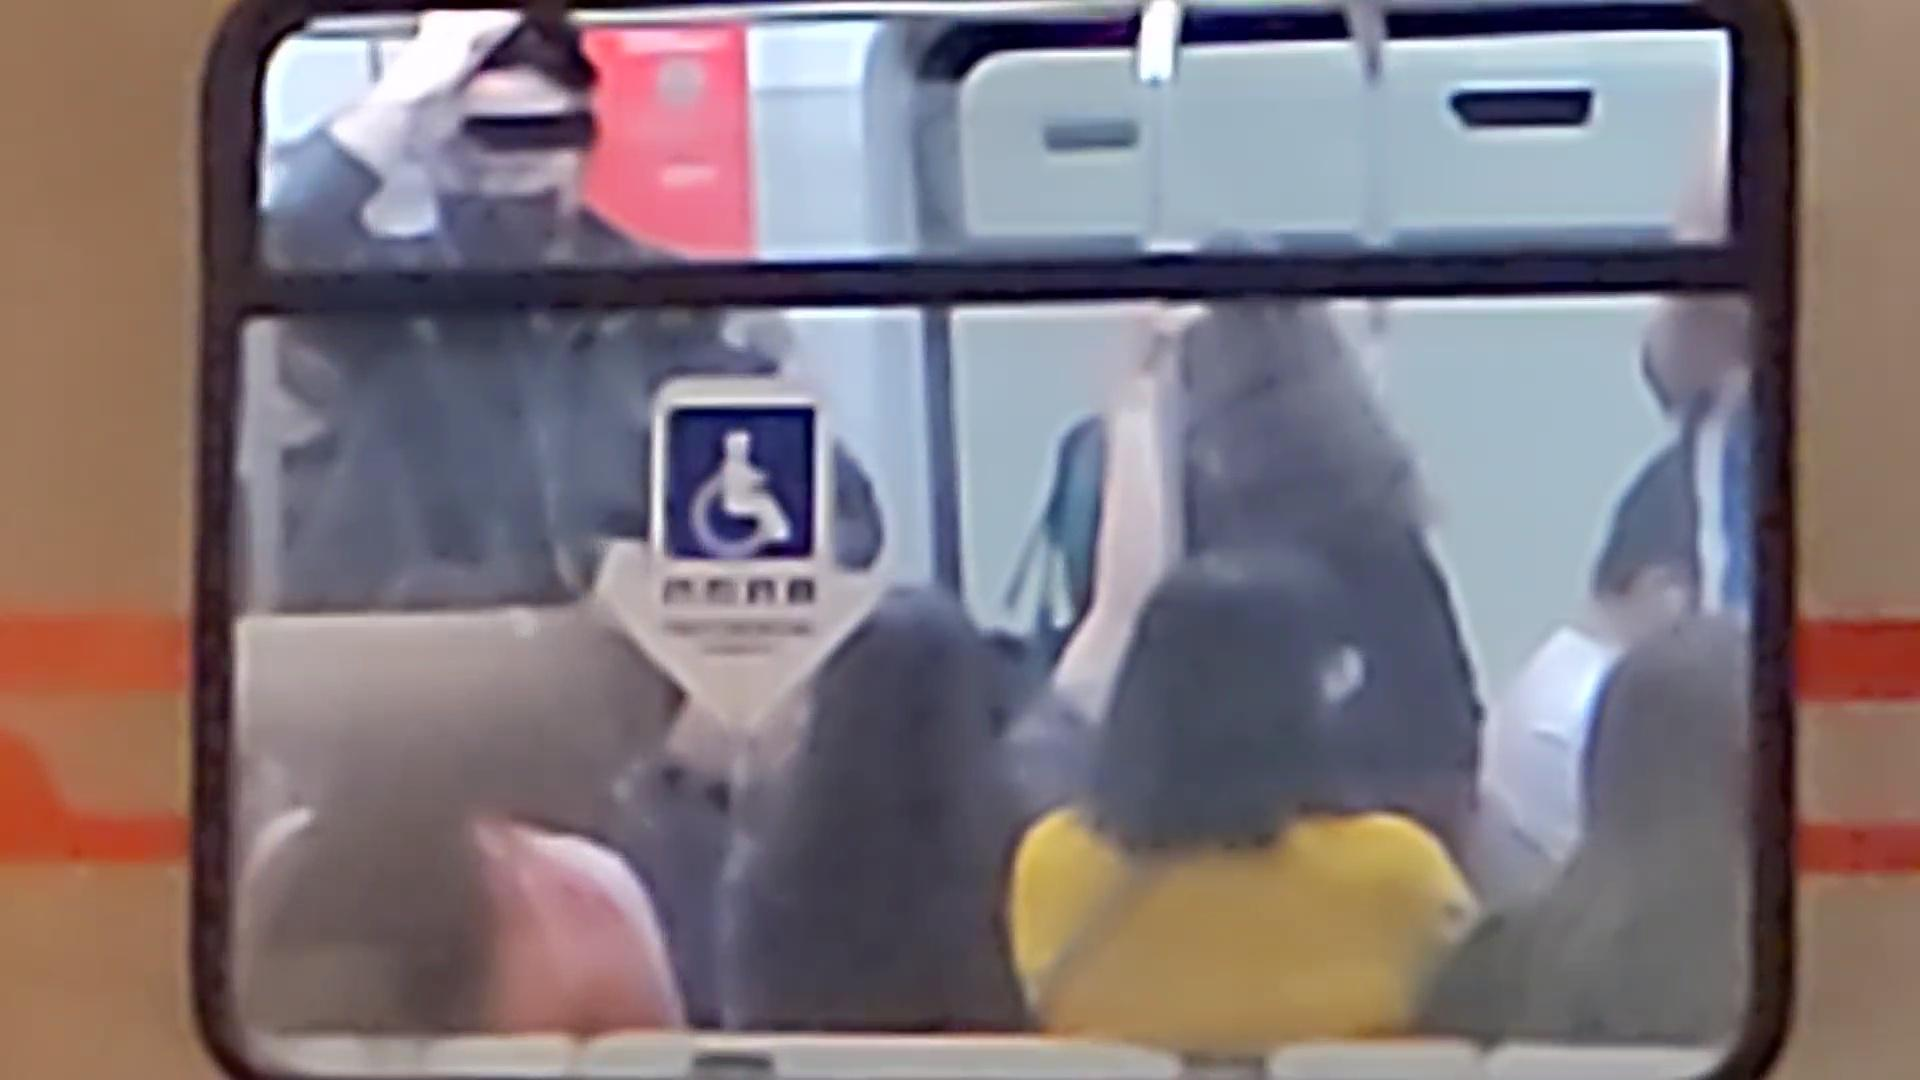handicapped symbol: (692, 429, 790, 563)
